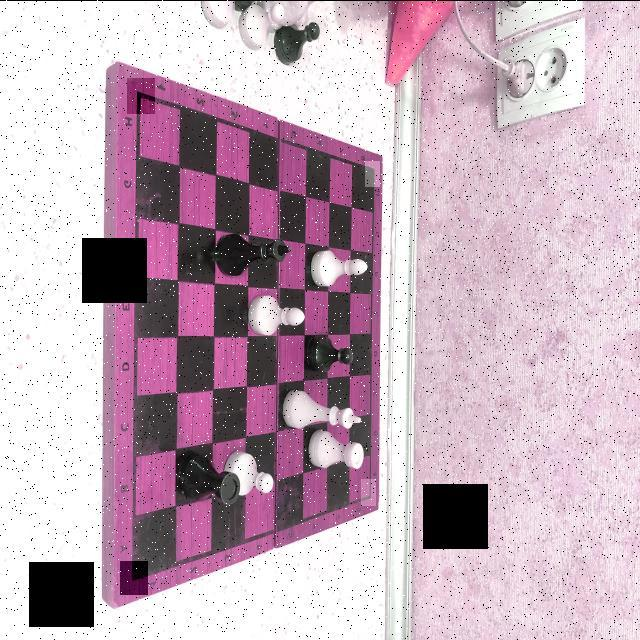chess-table-corners: (127, 77, 155, 113), (120, 560, 148, 594), (361, 478, 376, 505), (365, 160, 380, 186)
